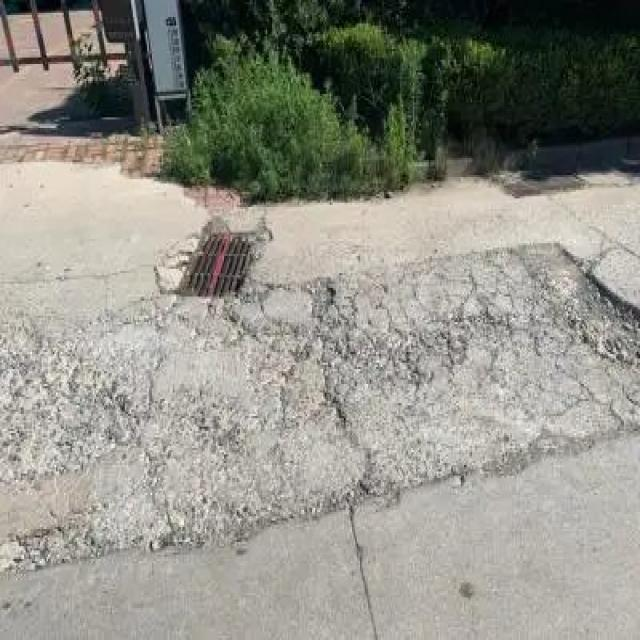pothole: (2, 237, 640, 572), (174, 222, 269, 295)
